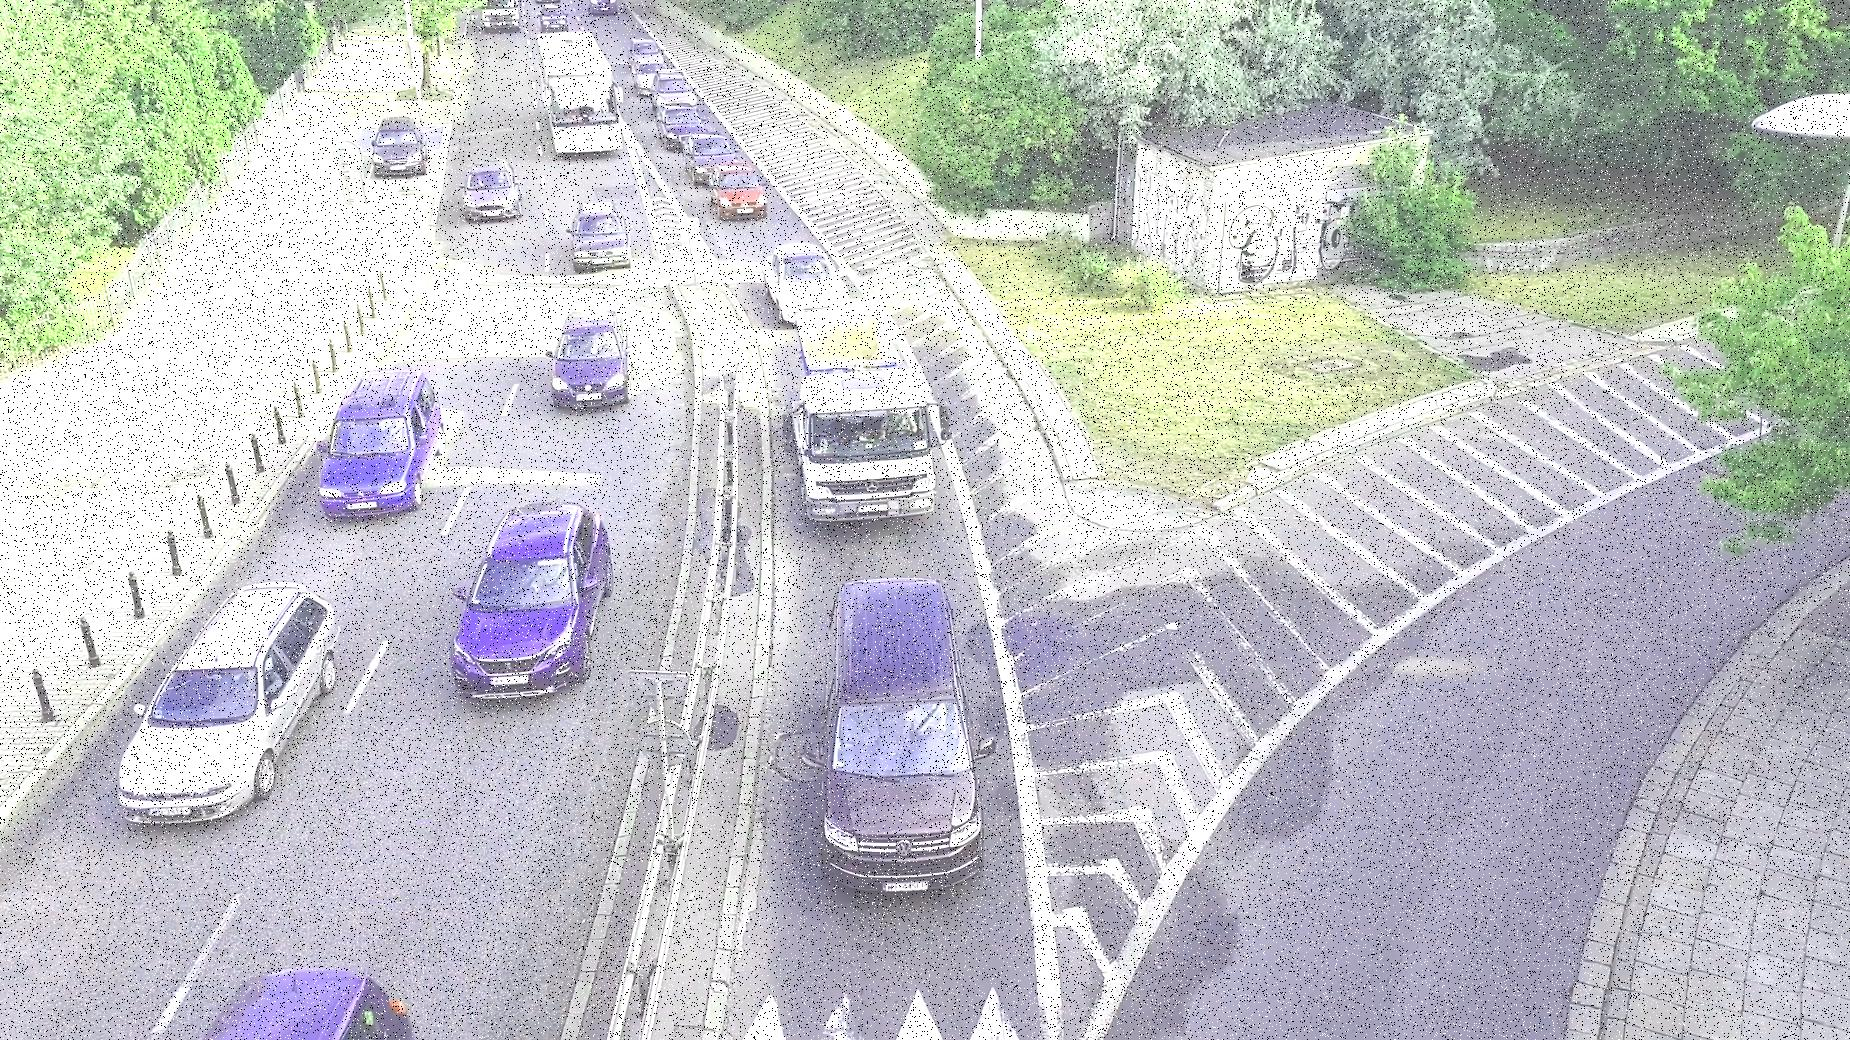bus: (530, 22, 629, 168), (476, 0, 521, 28)
car: (117, 587, 354, 837), (812, 566, 986, 895), (441, 498, 618, 697), (173, 965, 435, 1040), (314, 364, 441, 516), (544, 301, 638, 414), (752, 232, 845, 320), (452, 160, 527, 221), (568, 203, 633, 273), (367, 109, 428, 180), (703, 160, 769, 225), (680, 127, 732, 184), (657, 99, 701, 138)
truck: (776, 300, 945, 527)
